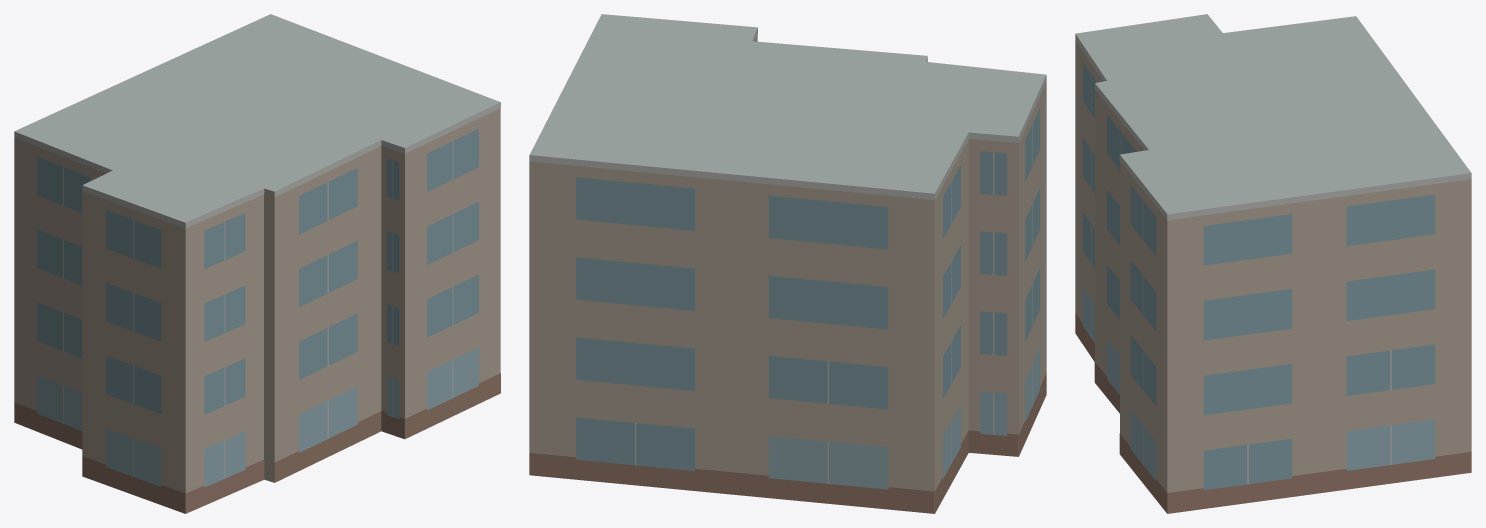
File: survey-upis-32515149.glb
3 views of the same model, side by side, from view 1: azimuth 30°, elevation 25°; view 2: azimuth 150°, elevation 25°; view 3: azimuth 270°, elevation 25° (orthographic). The views are drawn at different scales.
Parts seen in each view (by area): view 1: survey-upis-32515149.tmp; view 2: survey-upis-32515149.tmp; view 3: survey-upis-32515149.tmp.
Boxes of the visible parts, box(x1,y1,x2,y2) form: survey-upis-32515149.tmp: box(14, 14, 500, 513); survey-upis-32515149.tmp: box(529, 14, 1046, 513); survey-upis-32515149.tmp: box(1075, 14, 1471, 513).
Bounding box in the file's own units: 17.5 × 12.2 × 14.63.
